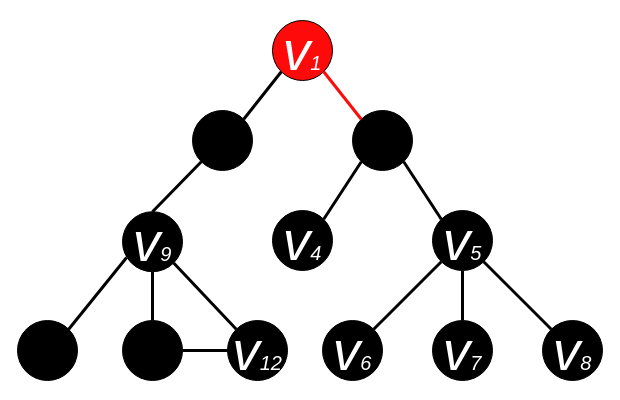
The diagram is 620 pixels wide and 400 high, and some of its shapes have lost their labels. Each missing label, with the centre of its shape:
v 10: the point at 47,350
v 11: the point at 152,350
v 2: the point at 222,140
v 3: the point at 382,140
